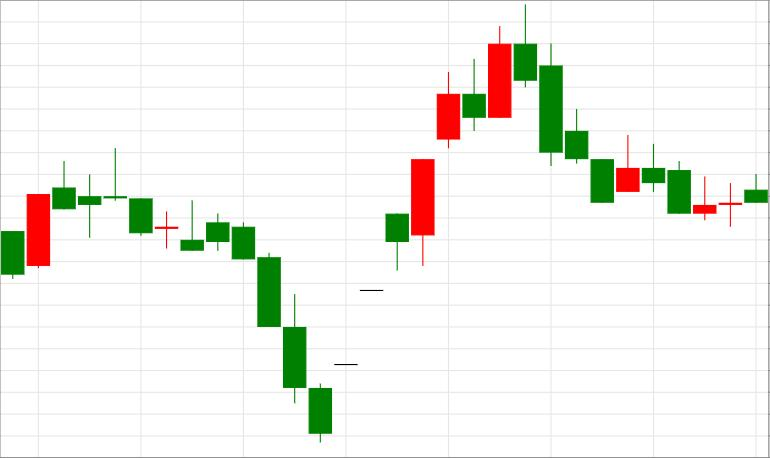shooting_star_fall: (411, 4, 538, 266)
